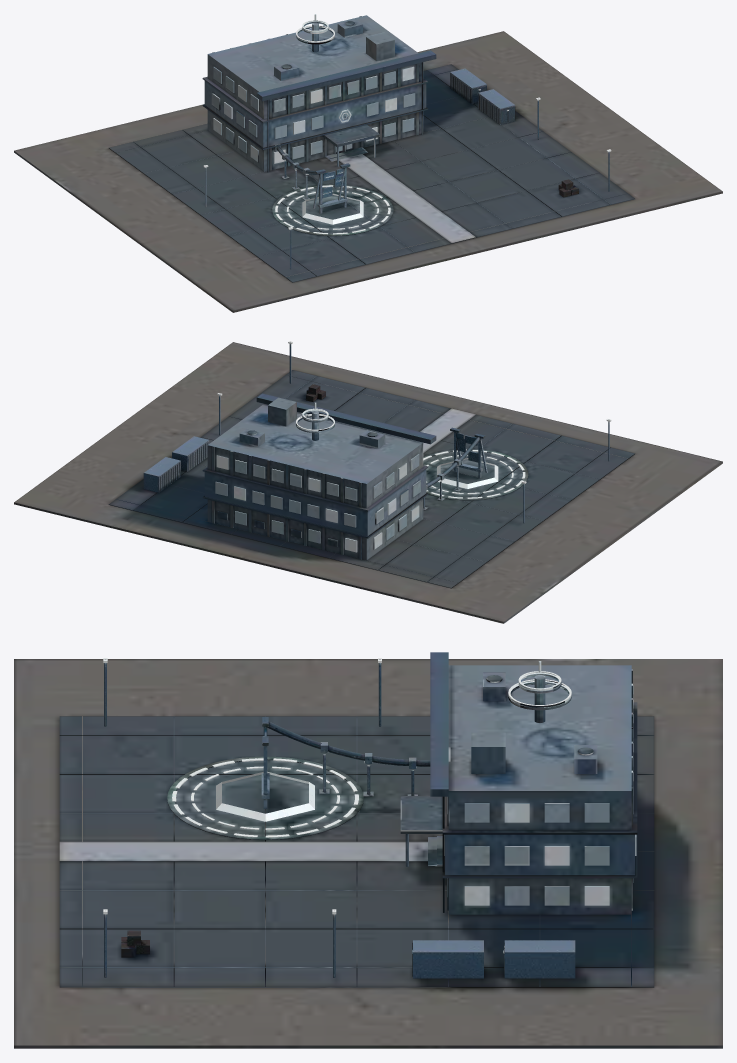
The model's file is arms_rnd_low.glb.
The picture shows the model from 3 angles, top to bottom: view 1: azimuth 30°, elevation 25°; view 2: azimuth 150°, elevation 25°; view 3: azimuth 270°, elevation 25°; orthographic projection. The views are drawn at different scales.
Parts seen in each view (by area): view 1: site_ground, props_lab, props_yard; view 2: site_ground, props_lab, props_yard; view 3: site_ground, props_lab, props_yard.
Part boxes in pixels (bbox=[...]): site_ground: bbox=[14, 31, 722, 312]; props_lab: bbox=[202, 14, 436, 172]; props_yard: bbox=[203, 68, 611, 269]; site_ground: bbox=[14, 342, 722, 623]; props_lab: bbox=[202, 393, 436, 560]; props_yard: bbox=[143, 341, 611, 523]; site_ground: bbox=[14, 659, 722, 1048]; props_lab: bbox=[400, 652, 637, 914]; props_yard: bbox=[103, 658, 575, 978].
Bounding box in the file's own units: 80 × 18.7 × 62.
3 materials, 3 textured.
